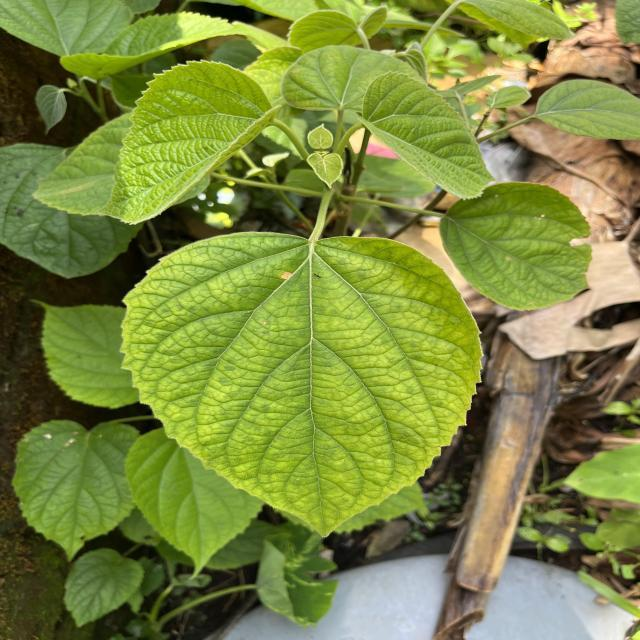Clerodendrum infortunatum: (116, 230, 487, 540), (92, 56, 284, 229), (122, 428, 271, 582), (438, 180, 594, 314), (354, 70, 497, 201), (11, 417, 138, 564), (26, 296, 142, 412)
